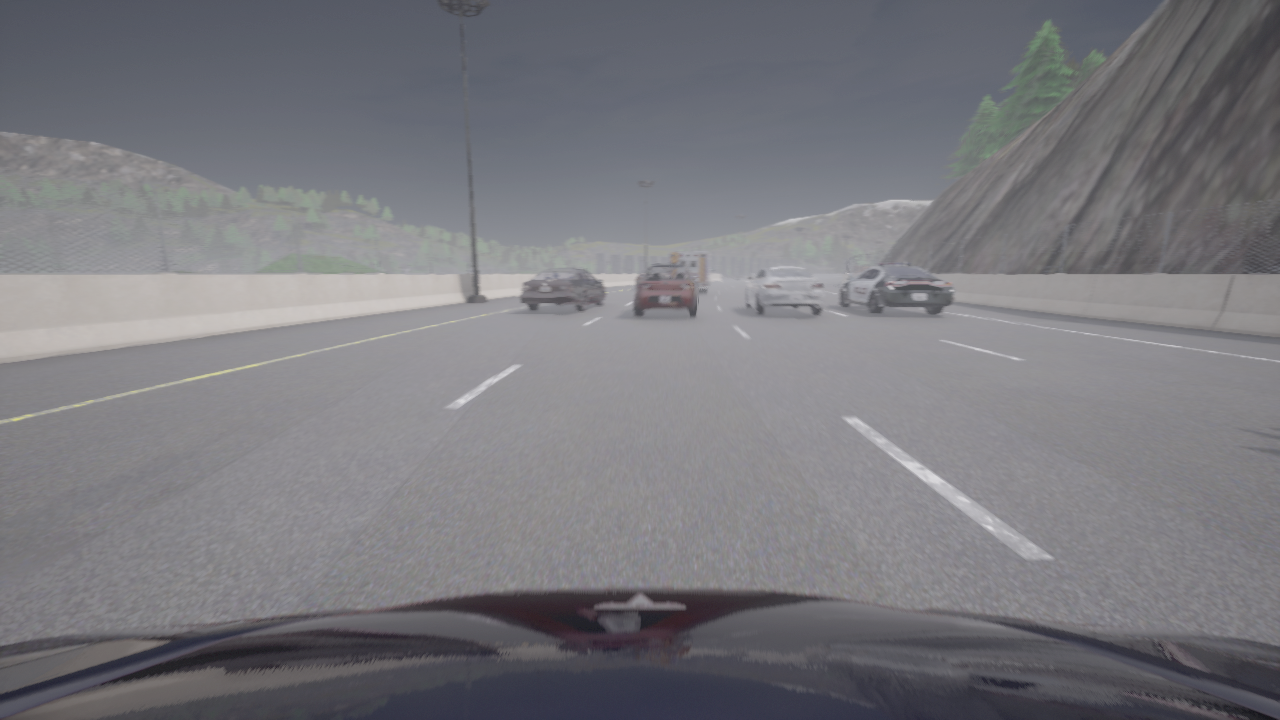cyclist: (0, 588, 1279, 719), (839, 263, 954, 314), (745, 265, 823, 315), (519, 268, 605, 311), (634, 264, 697, 317), (669, 252, 714, 293), (636, 270, 646, 288)
